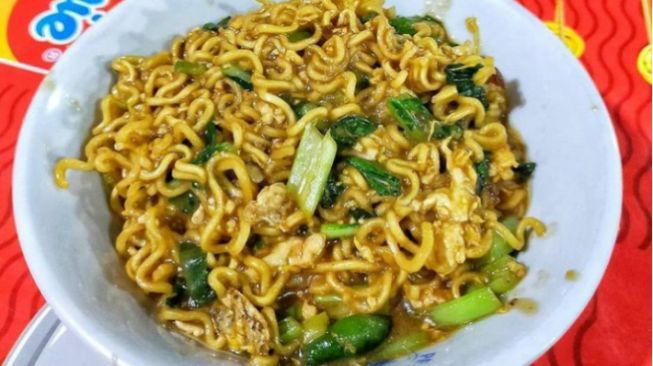Mie: (79, 2, 557, 342)
